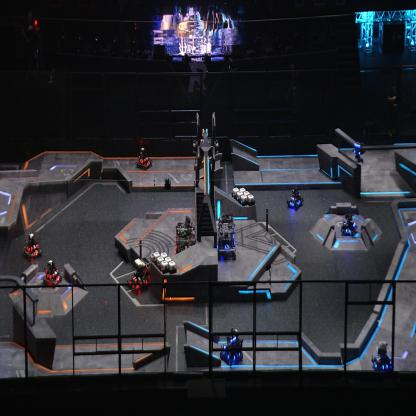car: (216, 212, 237, 260), (127, 257, 153, 295), (219, 327, 243, 365), (175, 220, 197, 258), (371, 338, 394, 374), (42, 258, 63, 288), (22, 232, 43, 261), (286, 186, 304, 210), (340, 212, 358, 236), (136, 148, 152, 170)
